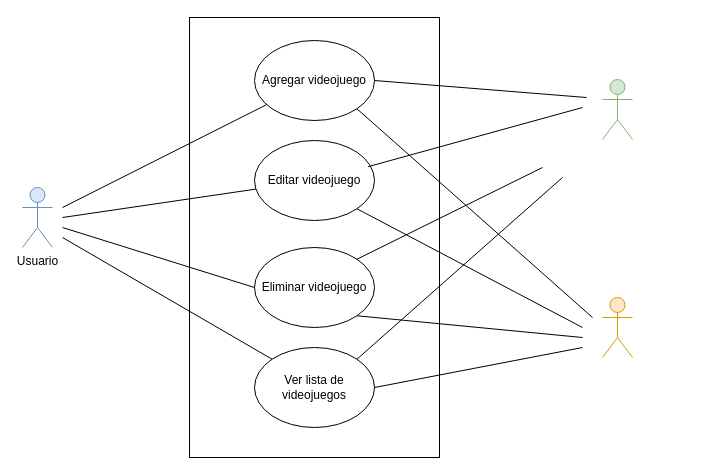
Image size: 707x475. Some labels were removed from this diagram. The box of each missing label's shape, as (x1, y1, x2, y2) in pixels:
Sistema de archivos: (602, 296, 632, 358)
Sistema de bases de datos: (602, 78, 632, 140)
